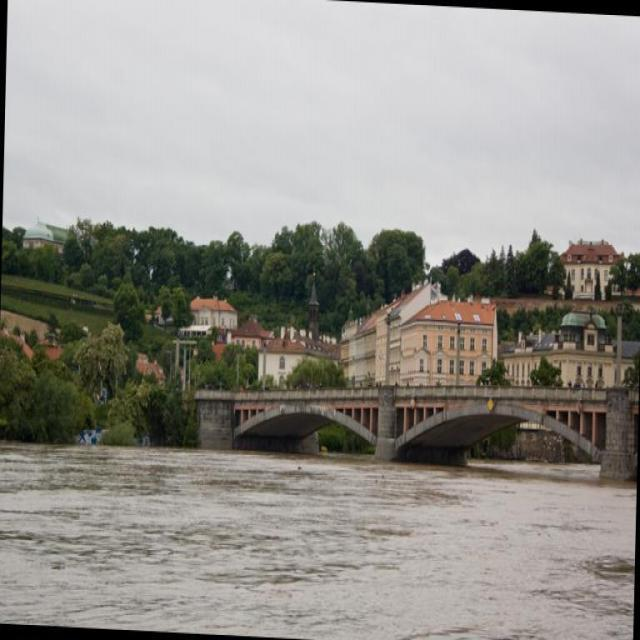flood: (0, 424, 638, 639)
